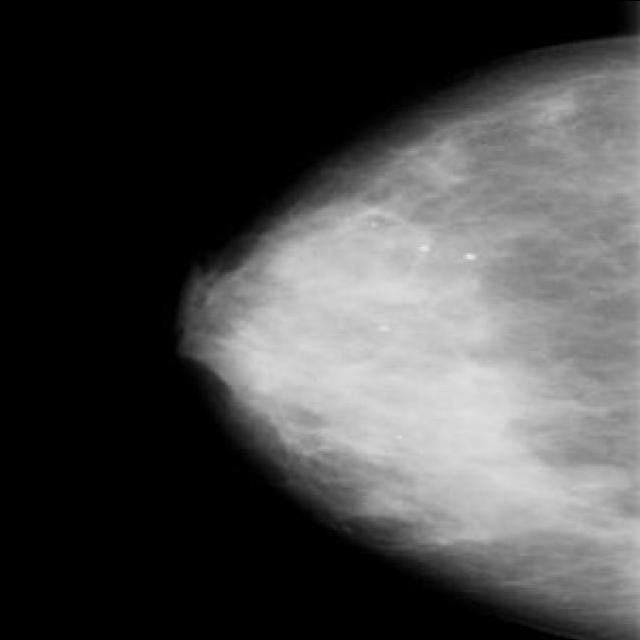tumor: (264, 213, 534, 508)
